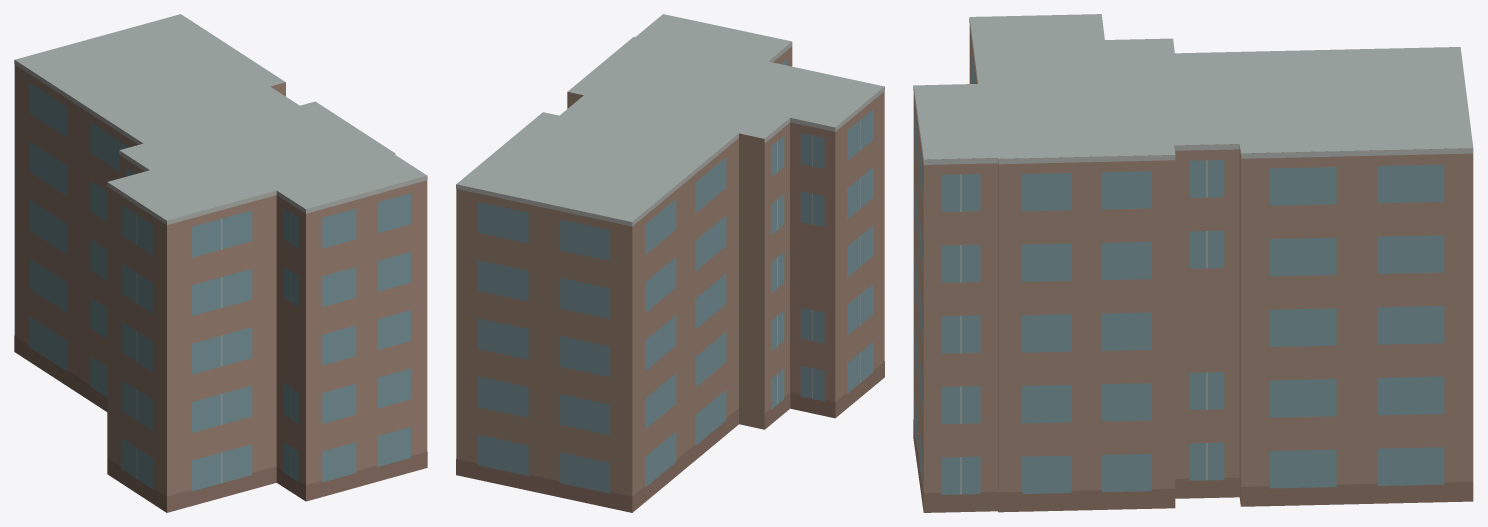
The model's file is survey-upis-32765800.glb.
3 views of the same model, side by side, from view 1: azimuth 30°, elevation 25°; view 2: azimuth 150°, elevation 25°; view 3: azimuth 270°, elevation 25° (orthographic). The views are drawn at different scales.
Visible parts, largest first — view 1: survey-upis-32765800.tmp; view 2: survey-upis-32765800.tmp; view 3: survey-upis-32765800.tmp.
Part boxes in pixels (x1,y1,x2,y2): survey-upis-32765800.tmp: [14, 14, 427, 512]; survey-upis-32765800.tmp: [456, 14, 884, 512]; survey-upis-32765800.tmp: [913, 14, 1473, 512].
Size of the model in its own units: 13.97 by 15.8 by 22.7.
